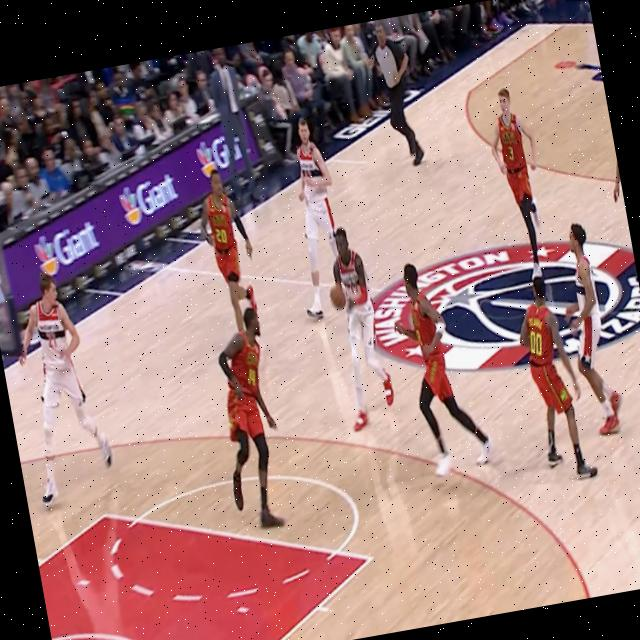no foul: (304, 192, 500, 503), (485, 196, 640, 505)
